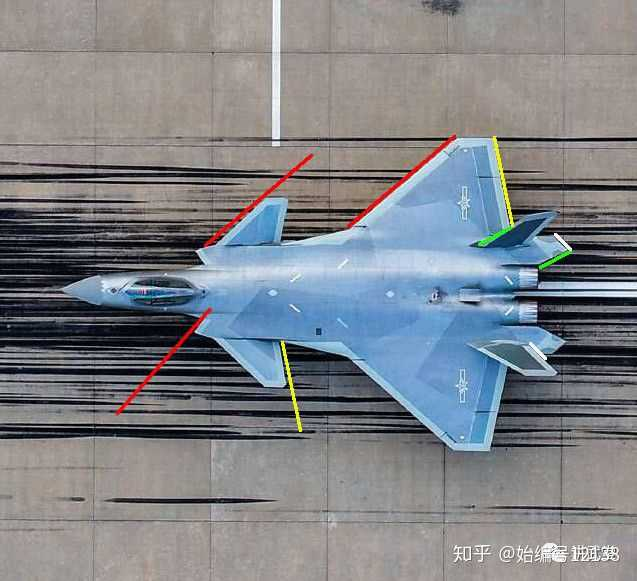J20: (58, 137, 568, 452)
